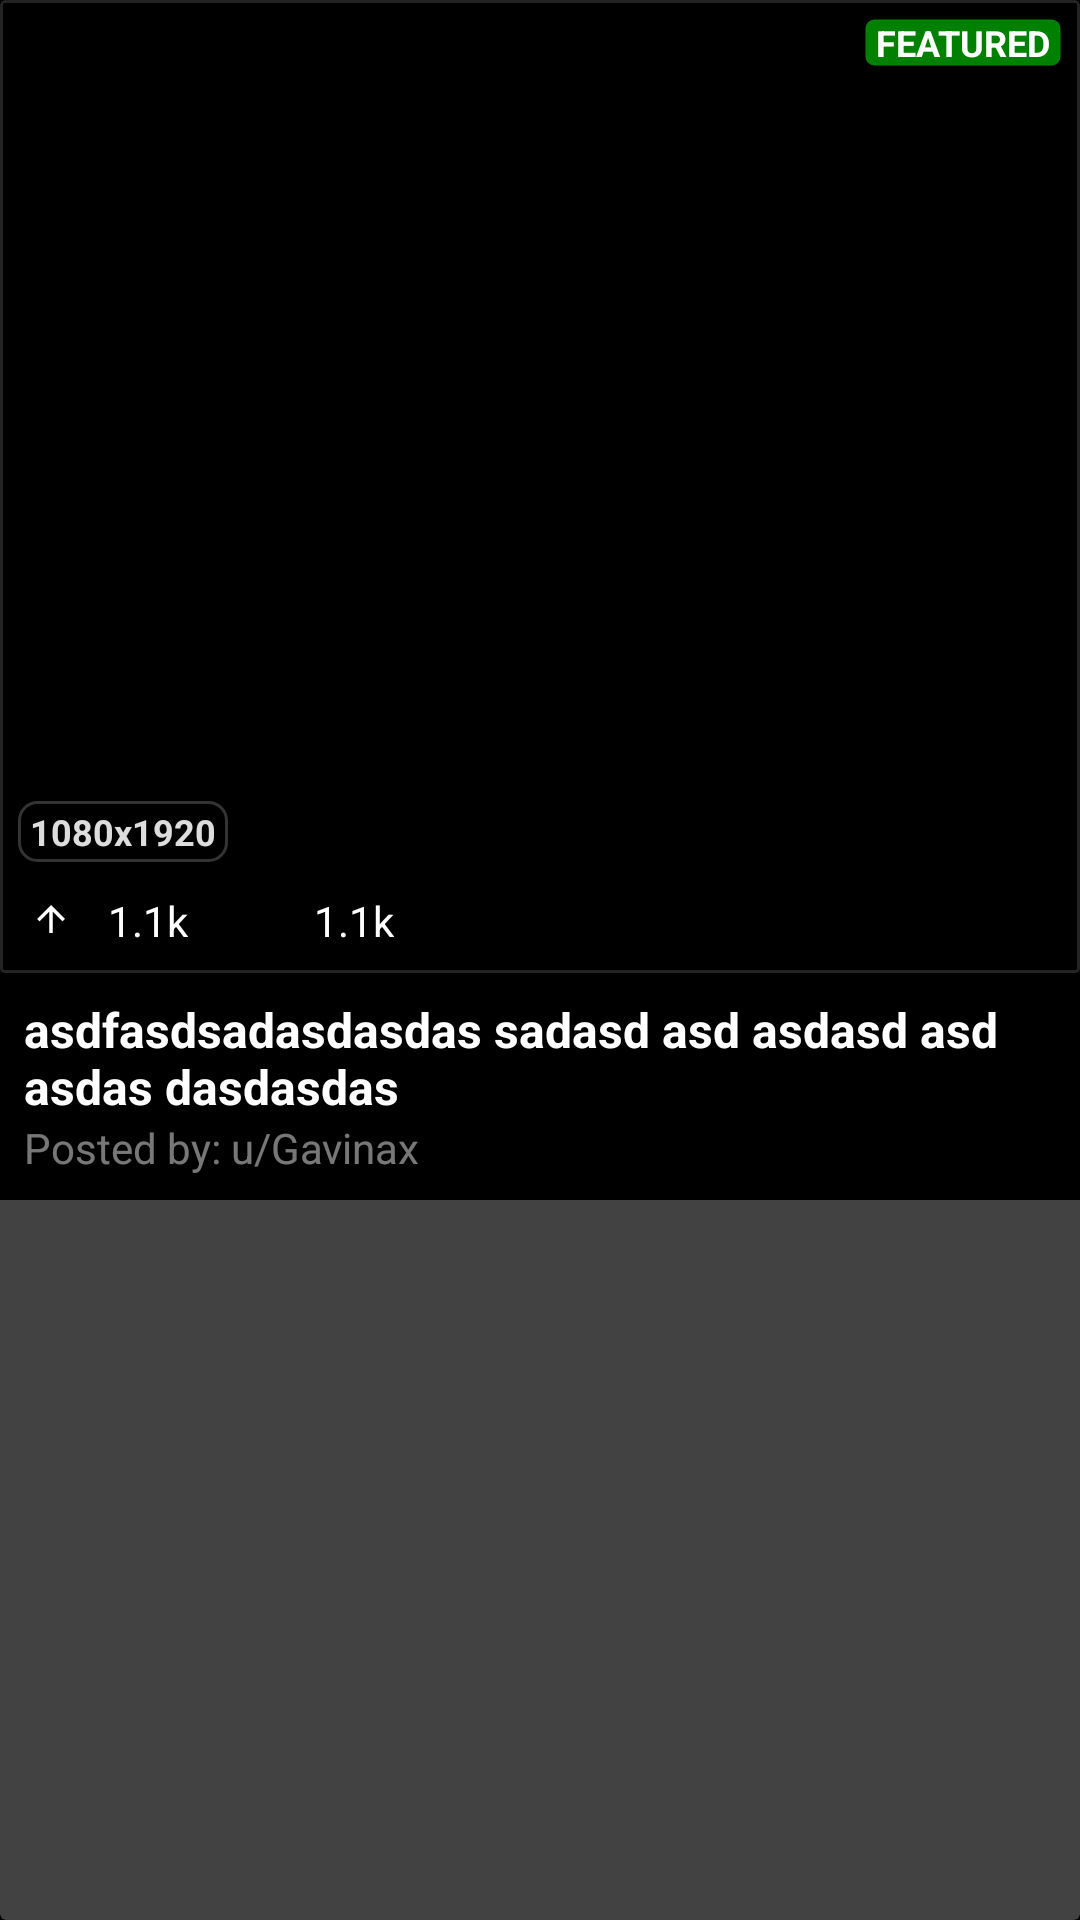

Named icons in this screenshot (1080 × 1920) and their centers, (x=x, y=y):
arrow upward: (x=51, y=919)
